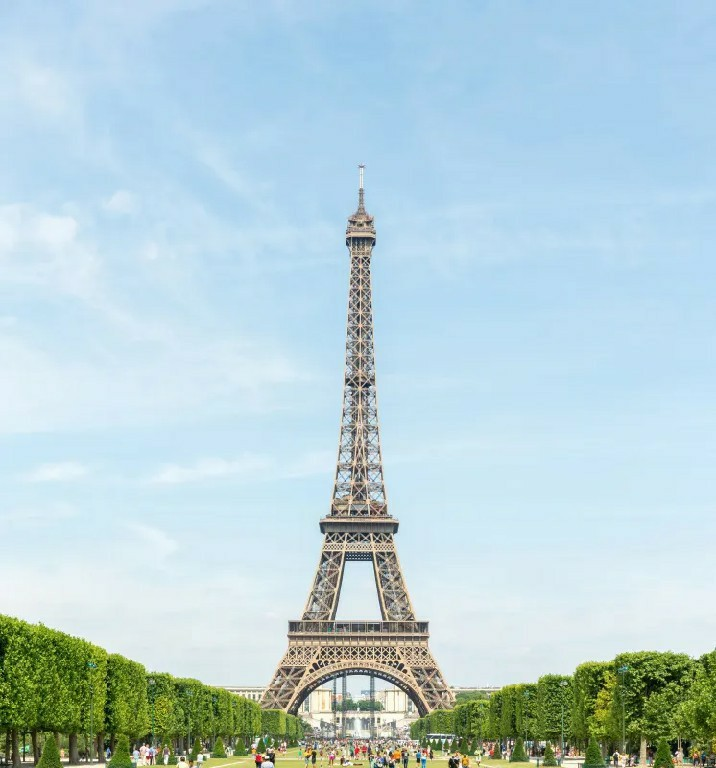Eiffel: (256, 161, 451, 719)
